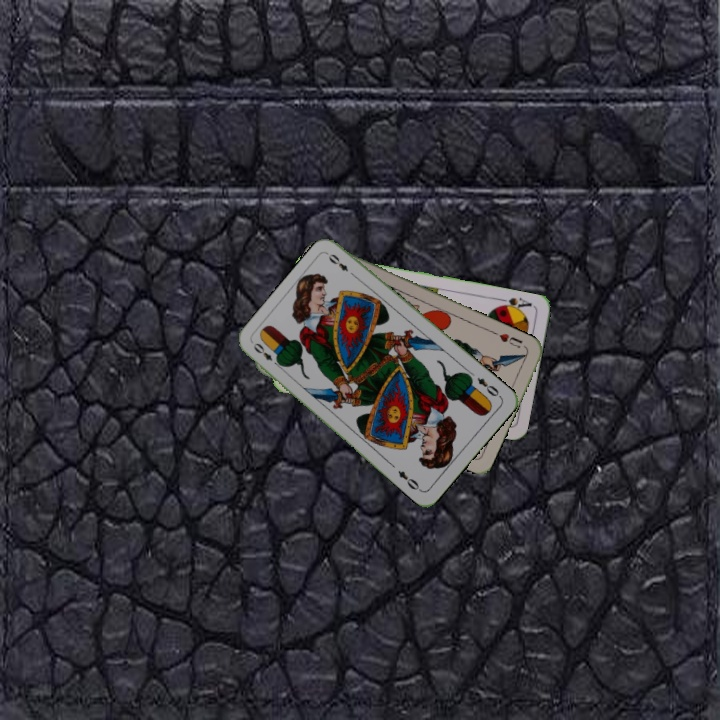EO: (249, 339, 283, 370), (473, 373, 504, 400)
HU: (490, 328, 525, 351)
SA: (494, 293, 534, 314)
